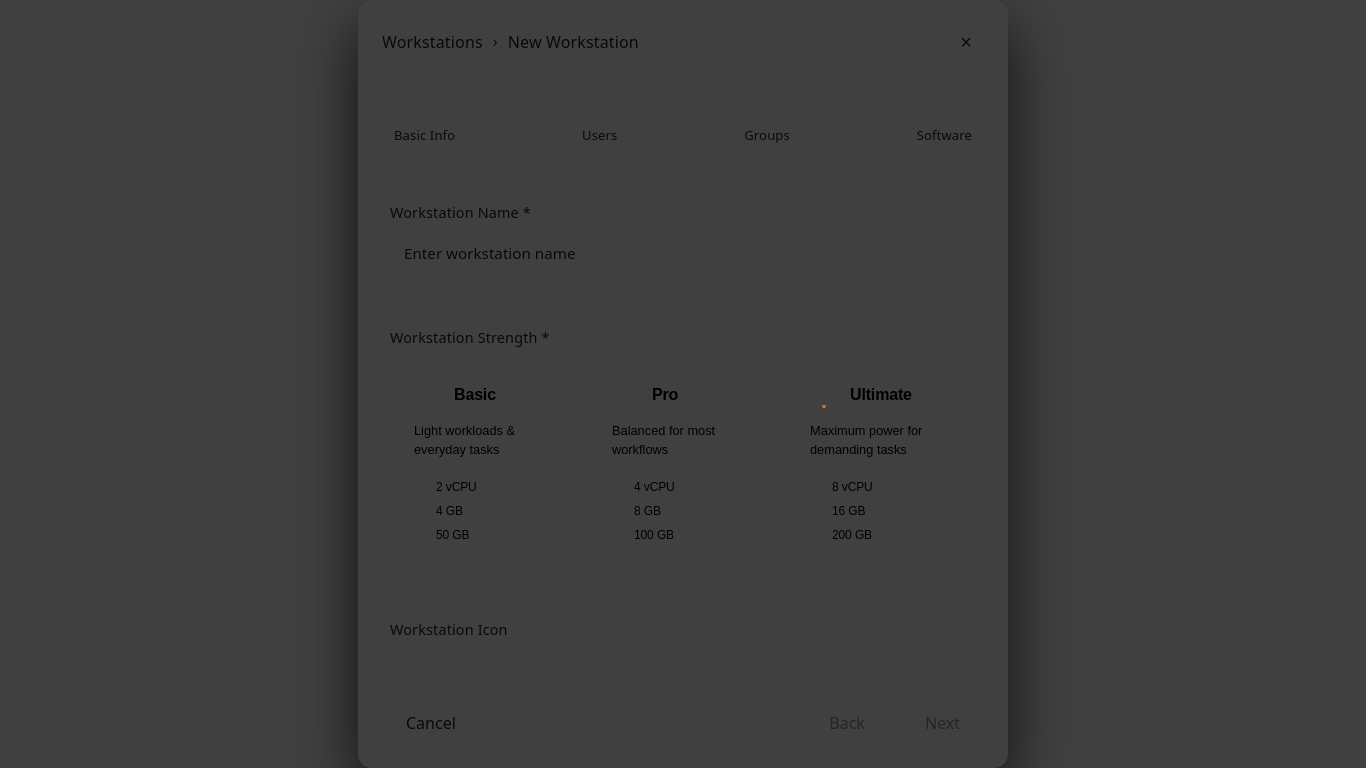
Test: WorkstationModal › Navigation › should navigate to Users step when Next is clicked
Type "Test" into the field with placeholder "Enter workstation name" at (681, 253), box [390,231,972,275]
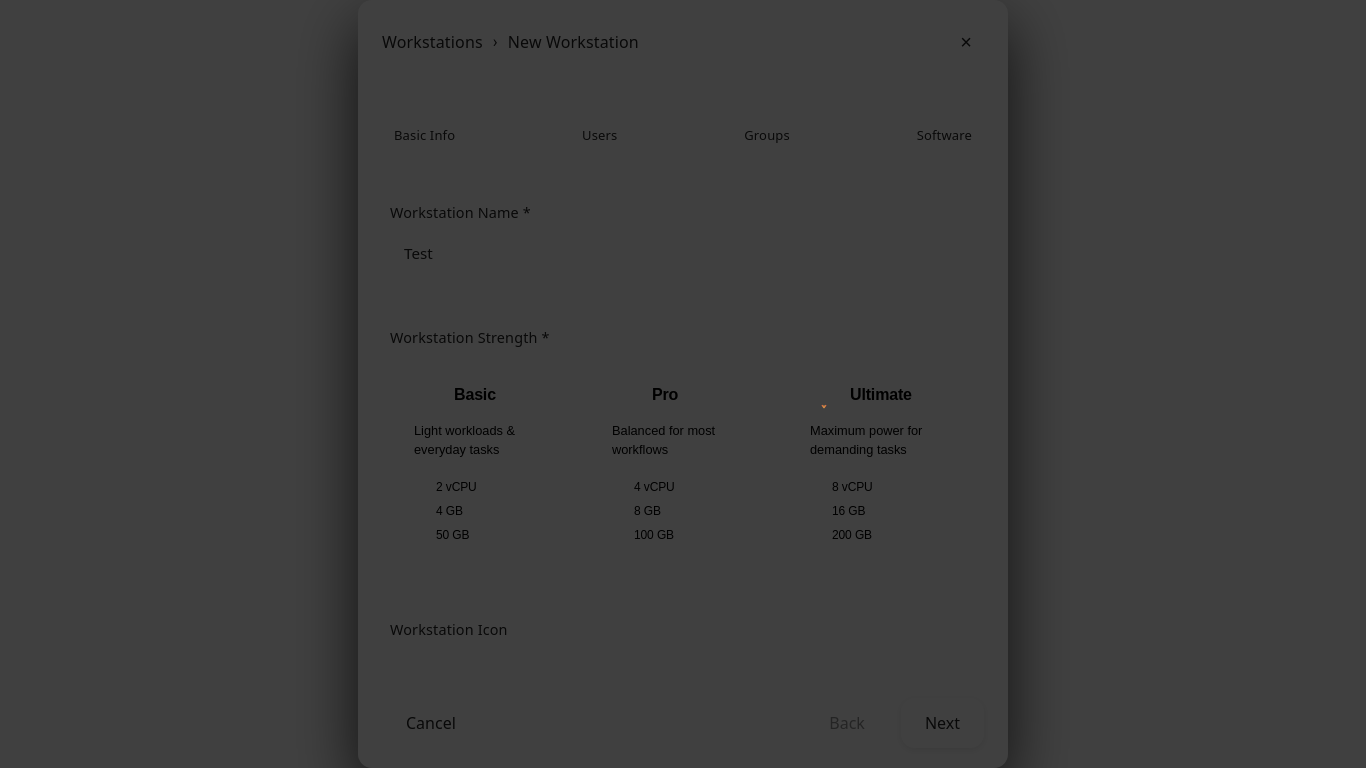
Click the button "Next" at (942, 723), box [901,698,984,748]
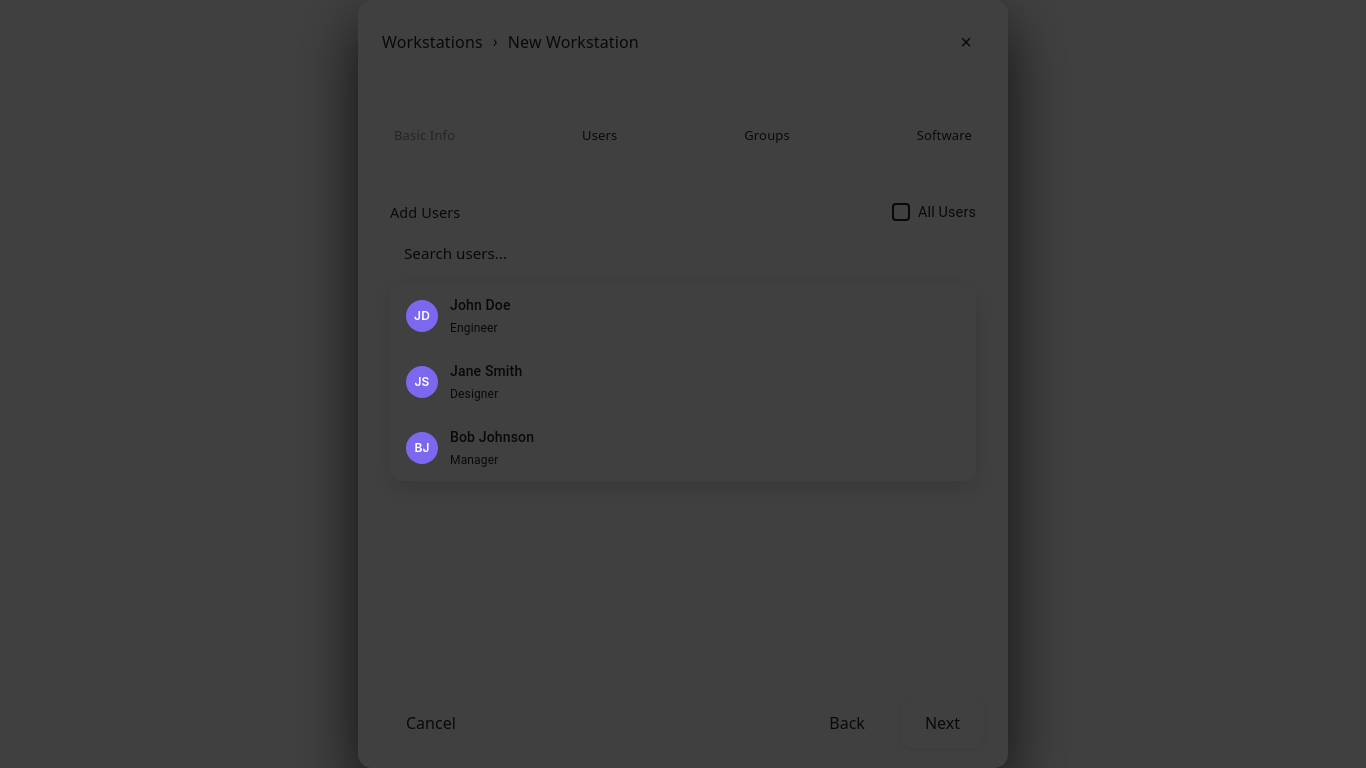
Now the field with placeholder "Search users..." is shown, box [390,231,976,275]
